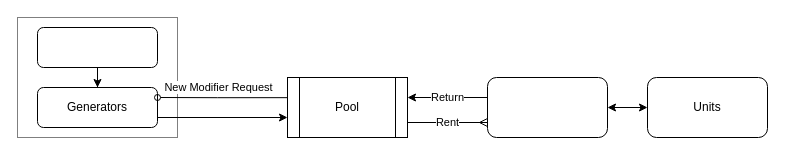
The diagram is 785 pixels wide and 155 high, and some of its shapes have lost their labels. Here are the shapes that lost their labels. From the top down, the box of each, then its label:
(36, 26, 158, 68): Recipes
(486, 76, 608, 138): Controllers
